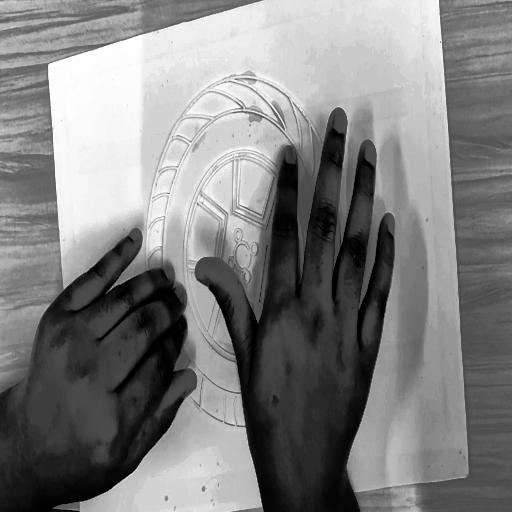bottom_right: (465, 468, 477, 485)
tire: (128, 39, 362, 456)
top_left: (45, 60, 53, 75)
